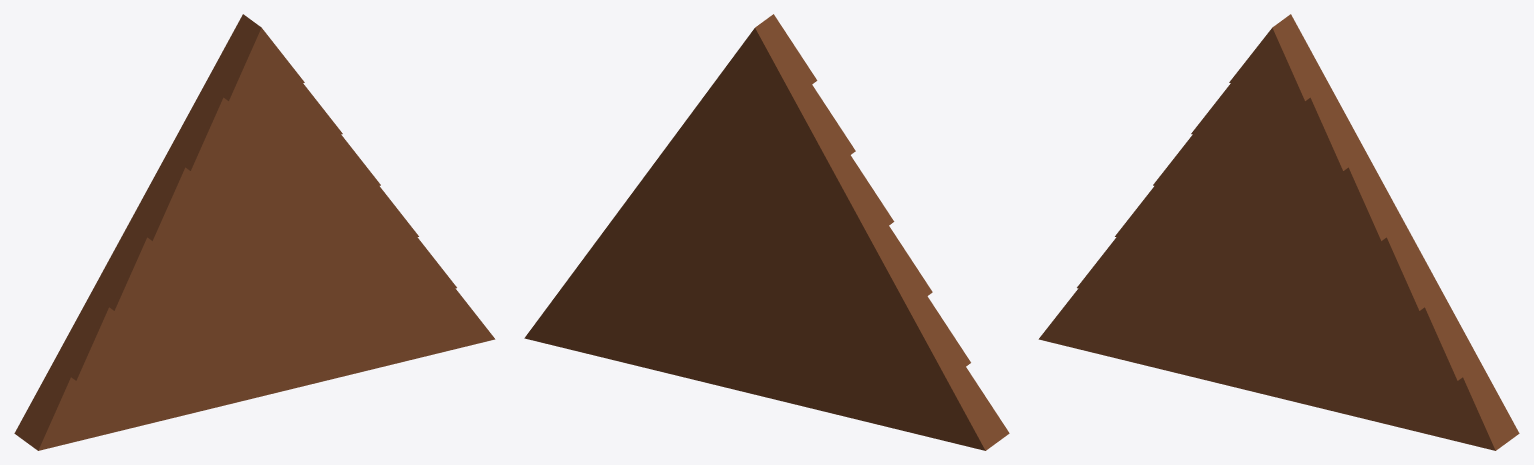
File: cabinSideCenter.fbx
3 views of the same model, side by side, from view 1: azimuth 30°, elevation 25°; view 2: azimuth 150°, elevation 25°; view 3: azimuth 330°, elevation 25° (orthographic).
Parts seen in each view (by area): view 1: cabinSideCenter; view 2: cabinSideCenter; view 3: cabinSideCenter.
Part boxes in pixels (box(x1,y1,x2,y2)): cabinSideCenter: box(14, 14, 495, 450); cabinSideCenter: box(524, 14, 1009, 450); cabinSideCenter: box(1038, 14, 1519, 450).
Size of the model in its own units: 10 by 7.6 by 0.902.
